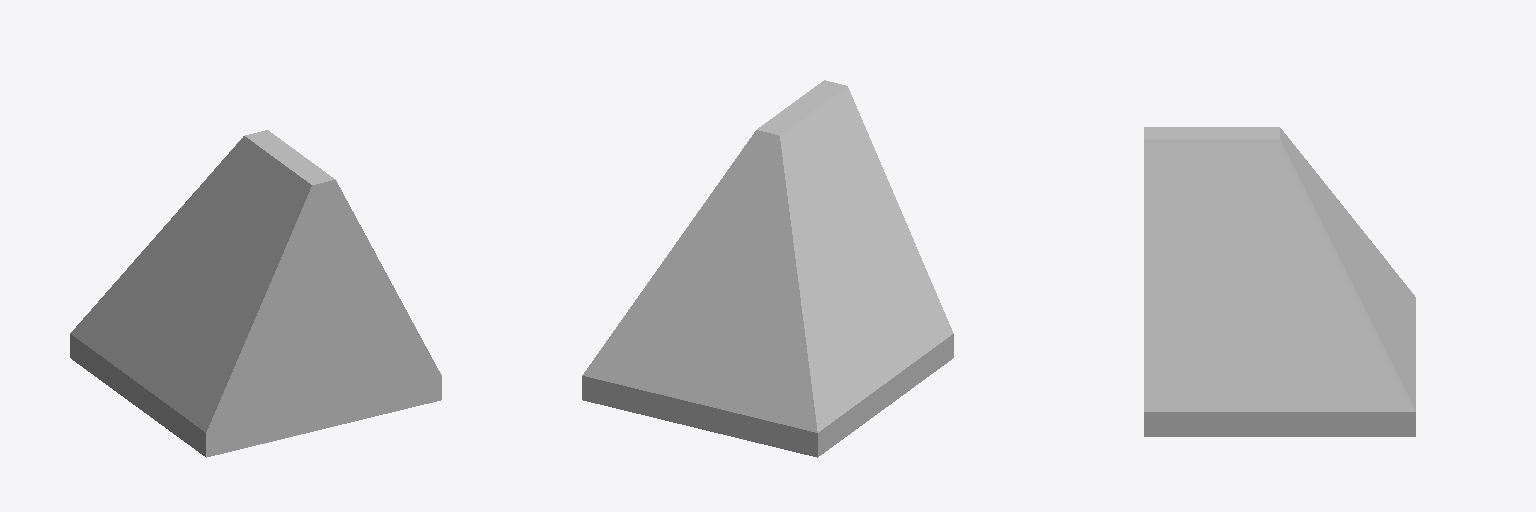
Rendered from roof-edge.obj.
3 renders of one model, left to right at view 1: azimuth 30°, elevation 25°; view 2: azimuth 150°, elevation 25°; view 3: azimuth 270°, elevation 25°, orthographic.
Parts seen in each view (by area): view 1: roof-edge; view 2: roof-edge; view 3: roof-edge.
Part boxes in pixels (bbox=[...]): roof-edge: bbox=[70, 130, 441, 457]; roof-edge: bbox=[582, 80, 953, 457]; roof-edge: bbox=[1144, 127, 1415, 436].
Size of the model in its own units: 1 by 1 by 1.